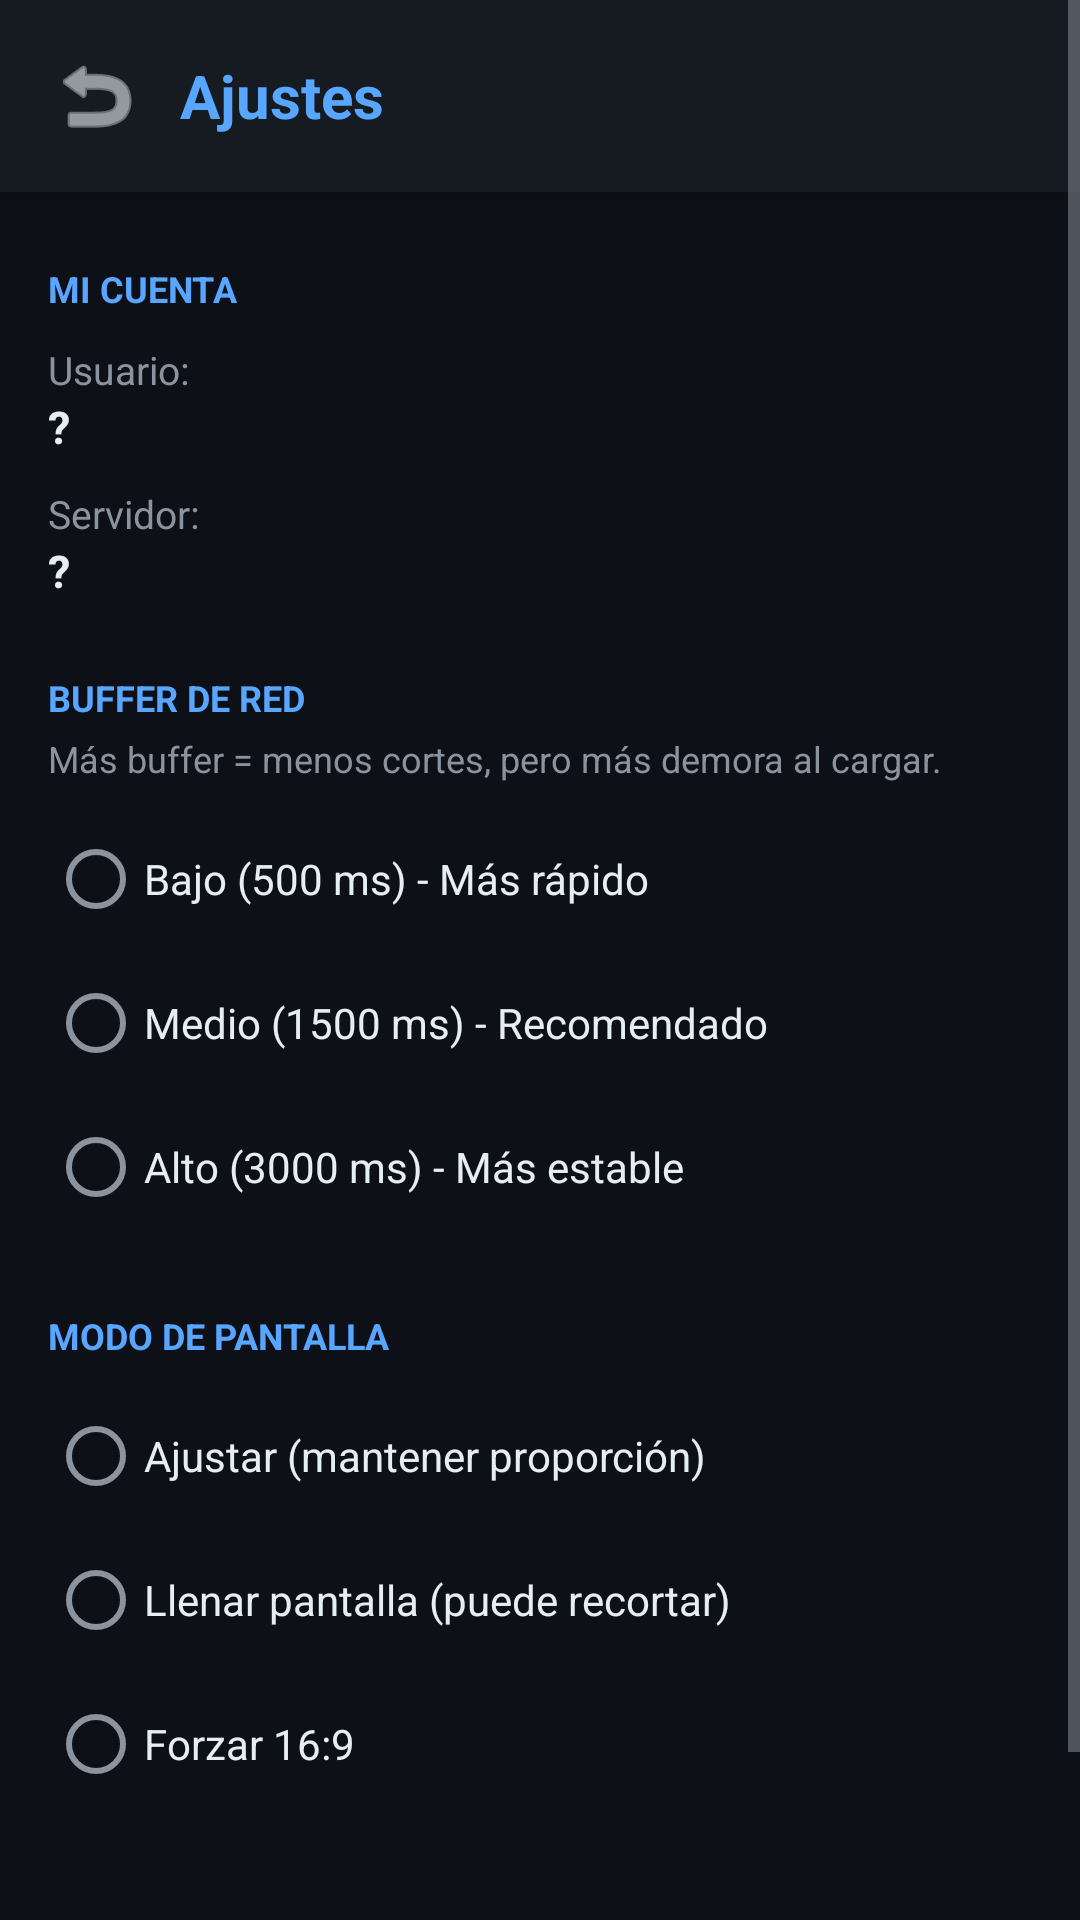

Screen size 1080 × 1920. Icon name, then its center in pixels as (x=x, y=y):
Volver: (x=97, y=96)
